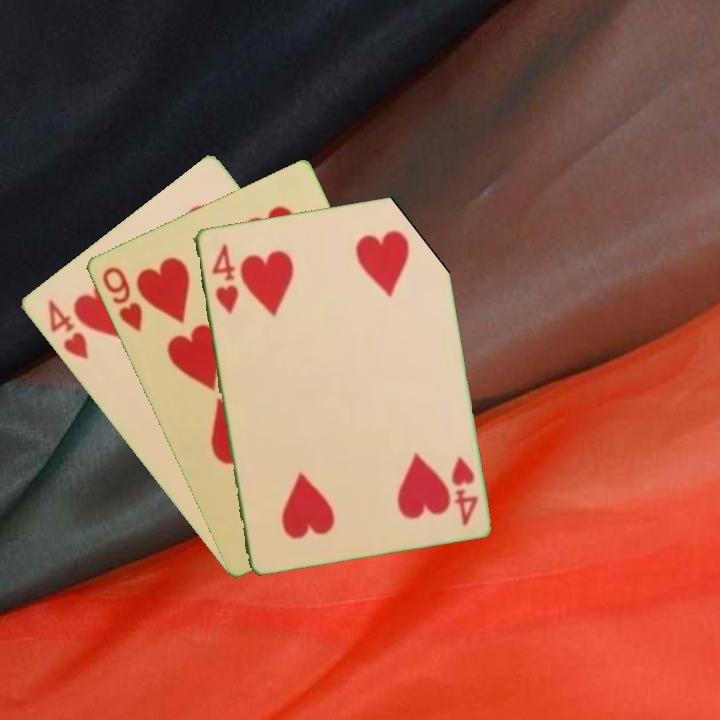4h: (43, 296, 91, 363), (207, 240, 241, 317), (447, 452, 481, 528)
9h: (97, 263, 145, 334)
